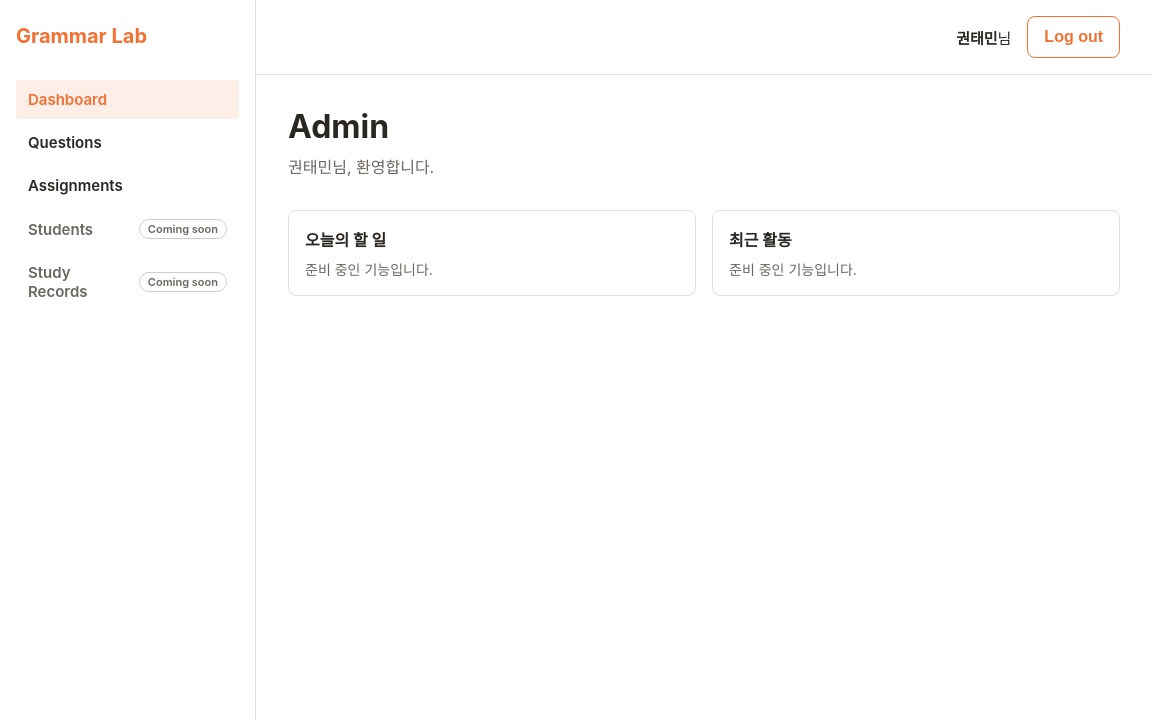
it: AppRoutes › logs out, clears the session, and returns to /login
What coordinates should you click on to do the following:
click the button "Log out"
I would click on:
 (1074, 37)
Its box is [1027,16,1120,58].
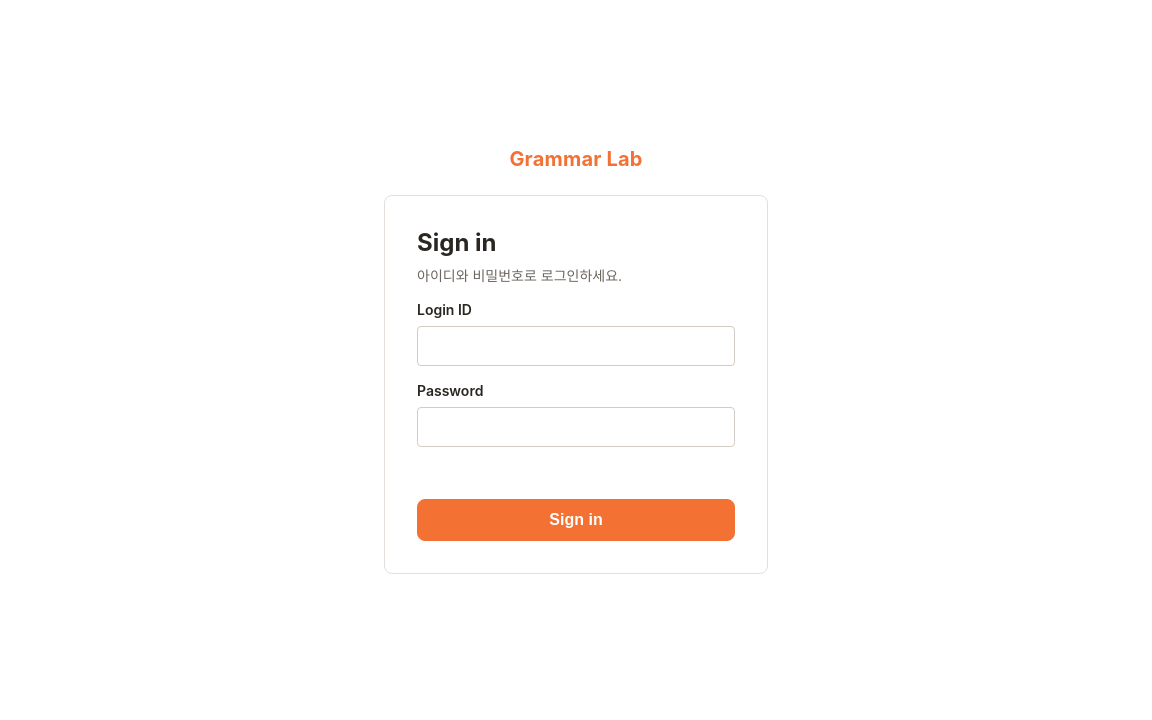
Expected: the heading "Sign in" is shown, [417,228,496,256]
